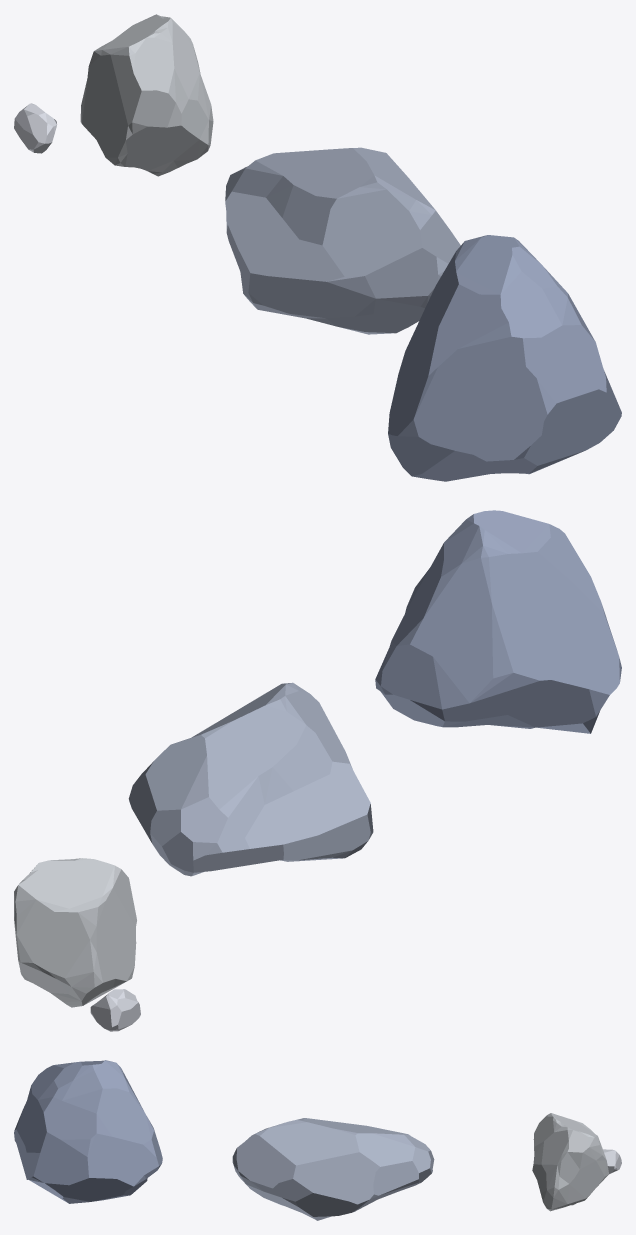
The model's file is rocks.fbx.
3 views of the same model, one above another, from view 1: azimuth 30°, elevation 25°; view 2: azimuth 150°, elevation 25°; view 3: azimuth 270°, elevation 25° (orthographic). The views are drawn at different scales.
Visible parts, largest first — view 1: Rock04, Rock03, Rock02, Rock01; view 2: Rock04, Rock03, Rock02, Rock01; view 3: Rock04, Rock03, Rock02, Rock01.
Part boxes in pixels (x1=…): Rock04: x1=388, y1=235, x2=621, y2=481; Rock03: x1=225, y1=147, x2=460, y2=334; Rock02: x1=80, y1=14, x2=213, y2=176; Rock01: x1=14, y1=103, x2=56, y2=153; Rock04: x1=375, y1=510, x2=621, y2=733; Rock03: x1=128, y1=682, x2=373, y2=876; Rock02: x1=14, y1=858, x2=136, y2=1007; Rock01: x1=90, y1=989, x2=140, y2=1031; Rock04: x1=14, y1=1060, x2=162, y2=1203; Rock03: x1=232, y1=1118, x2=434, y2=1220; Rock02: x1=532, y1=1113, x2=608, y2=1211; Rock01: x1=603, y1=1149, x2=621, y2=1173.
Bounding box in the file's own units: 441 × 357 × 1437.
